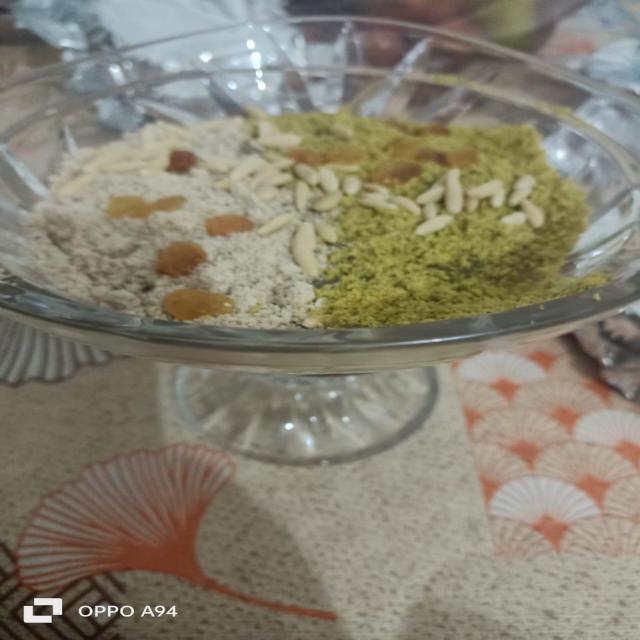asida-zkoukou: (8, 36, 640, 418), (0, 49, 614, 357)
